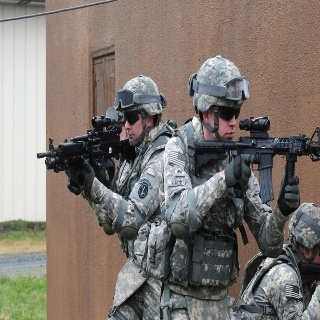rifle: (191, 115, 320, 207), (35, 115, 140, 197)
